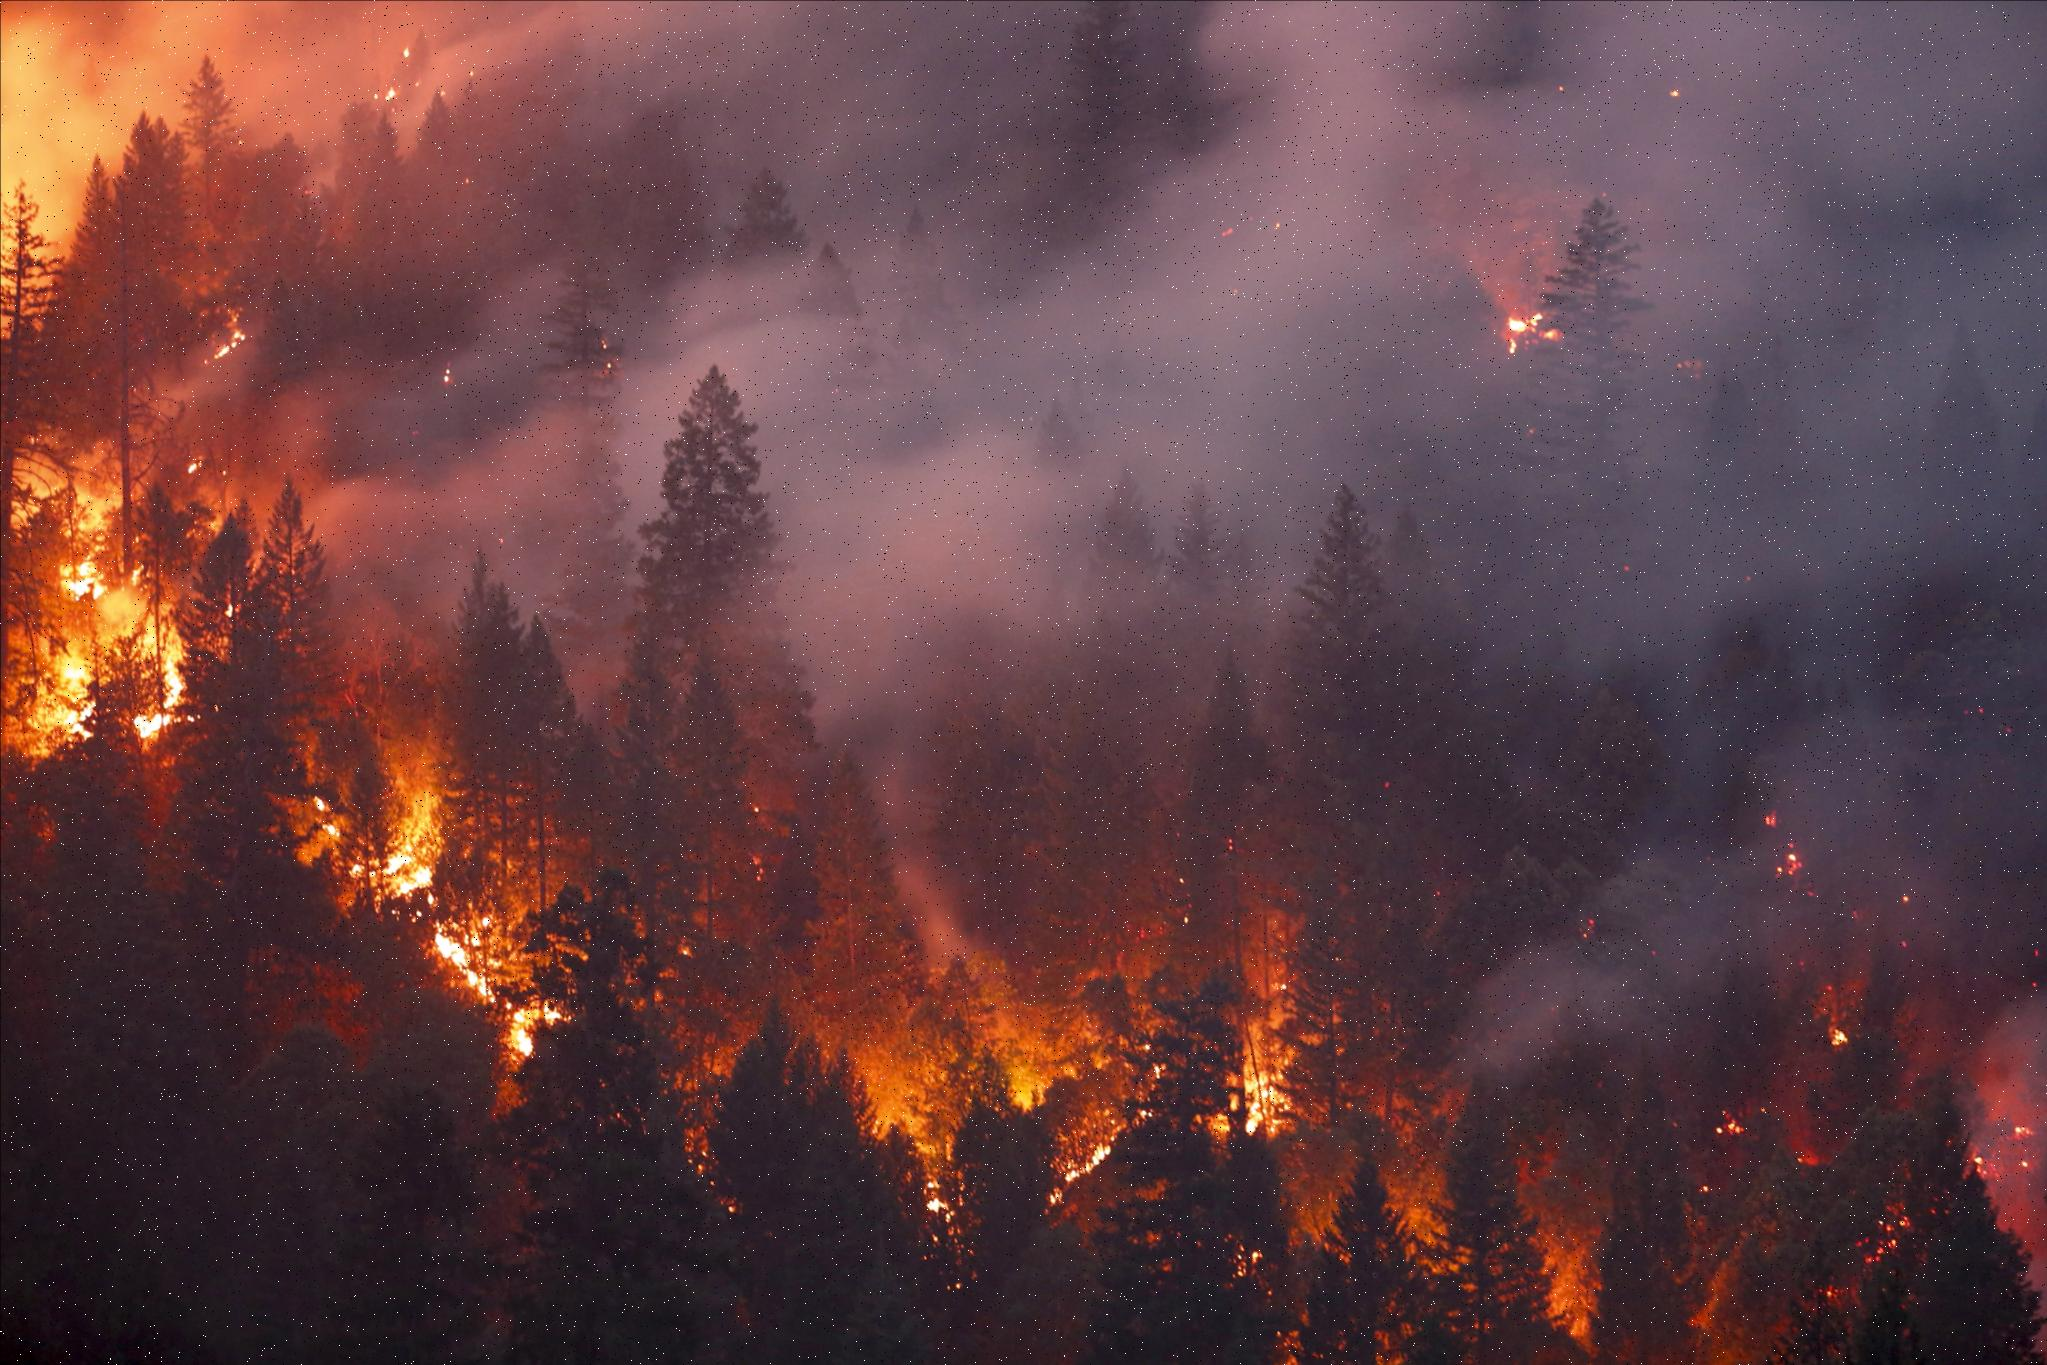fire: (0, 0, 545, 1083), (611, 893, 2033, 1307)
